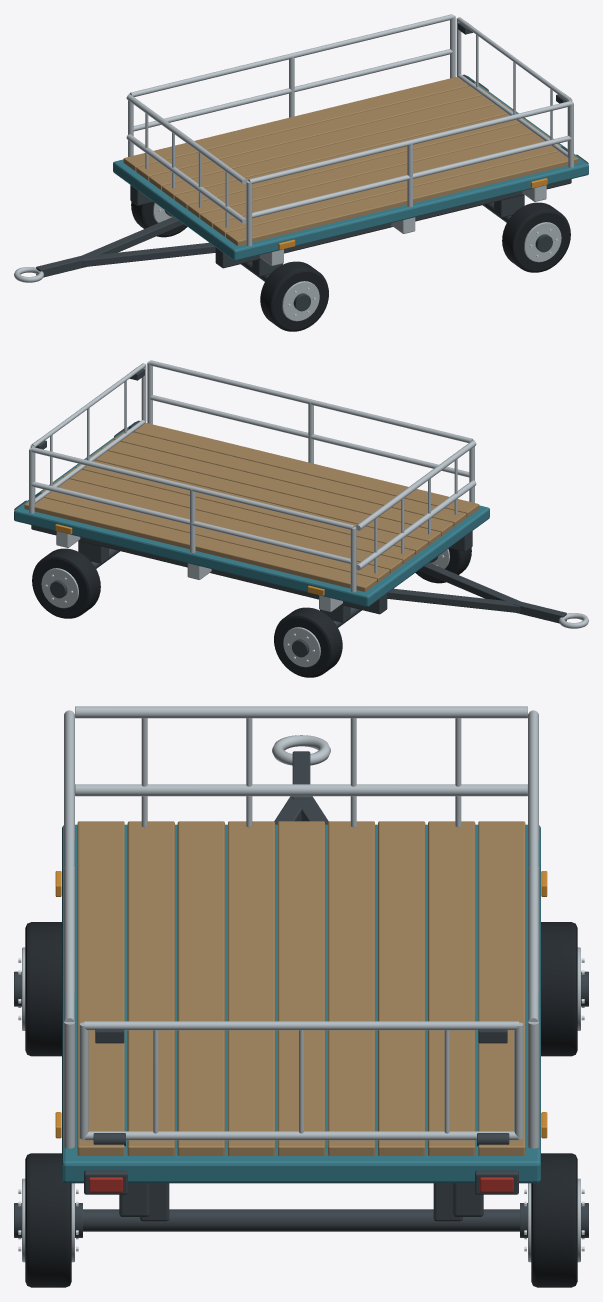
Rendered from city-baggage-tow-trailer.glb.
The picture shows the model from 3 angles, top to bottom: view 1: azimuth 30°, elevation 25°; view 2: azimuth 150°, elevation 25°; view 3: azimuth 270°, elevation 25°; orthographic projection. The views are drawn at different scales.
Visible parts, largest first — view 1: Assembly | Plain untextured trailer decking, Assembly | Satin terminal fixture metal, Assembly | Muted teal equipment finish, Assembly | Dark service trim, Assembly | Dark belt curtain and tire rubber; view 2: Assembly | Plain untextured trailer decking, Assembly | Satin terminal fixture metal, Assembly | Muted teal equipment finish, Assembly | Dark service trim, Assembly | Dark belt curtain and tire rubber; view 3: Assembly | Plain untextured trailer decking, Assembly | Satin terminal fixture metal, Assembly | Muted teal equipment finish, Assembly | Dark belt curtain and tire rubber, Assembly | Dark service trim, Assembly | Inactive red status lens.
Part boxes in pixels (left/top/right/bottom): Assembly | Plain untextured trailer decking: left=123, top=77, right=578, bottom=245; Assembly | Satin terminal fixture metal: left=14, top=14, right=573, bottom=321; Assembly | Muted teal equipment finish: left=113, top=76, right=588, bottom=260; Assembly | Dark service trim: left=36, top=22, right=588, bottom=311; Assembly | Dark belt curtain and tire rubber: left=131, top=202, right=570, bottom=331; Assembly | Plain untextured trailer decking: left=24, top=423, right=479, bottom=591; Assembly | Satin terminal fixture metal: left=29, top=360, right=588, bottom=667; Assembly | Muted teal equipment finish: left=14, top=422, right=489, bottom=606; Assembly | Dark service trim: left=14, top=368, right=566, bottom=657; Assembly | Dark belt curtain and tire rubber: left=32, top=548, right=471, bottom=677; Assembly | Plain untextured trailer decking: left=77, top=821, right=525, bottom=1155; Assembly | Satin terminal fixture metal: left=22, top=706, right=580, bottom=1262; Assembly | Muted teal equipment finish: left=62, top=824, right=540, bottom=1183; Assembly | Dark belt curtain and tire rubber: left=25, top=922, right=577, bottom=1287; Assembly | Dark service trim: left=14, top=751, right=588, bottom=1237; Assembly | Inactive red status lens: left=89, top=1177, right=513, bottom=1192.
Size of the model in its own units: 3.14 by 0.892 by 1.54.
